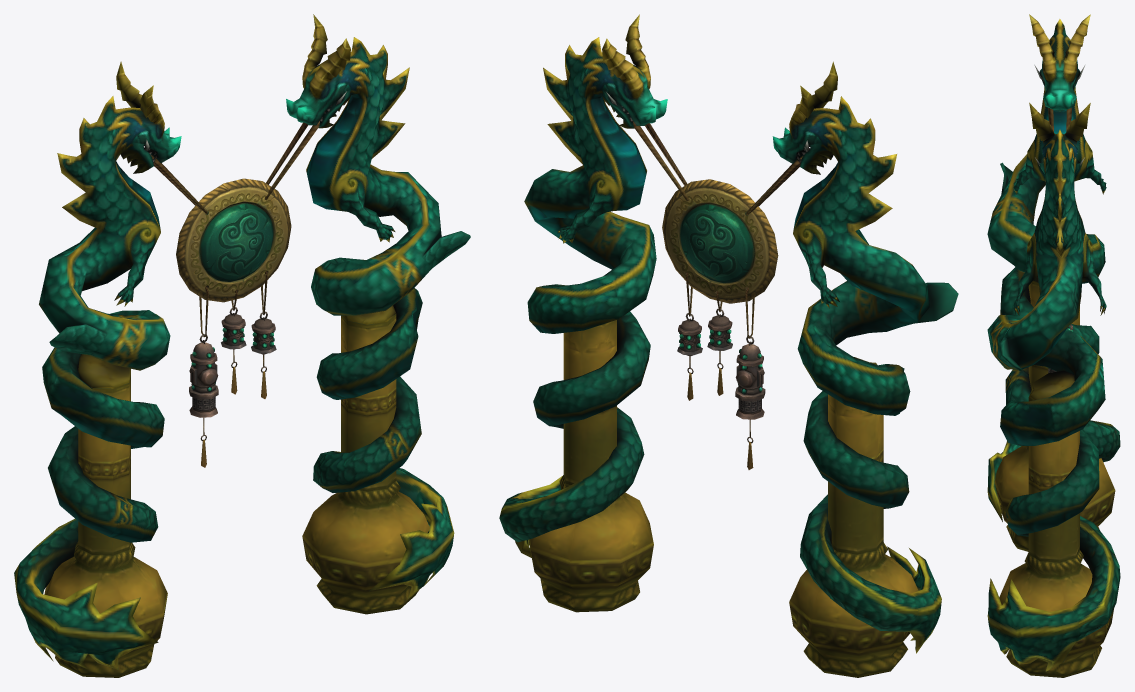
Rendered from Npc_001.FBX.
3 views of the same model, side by side, from view 1: azimuth 30°, elevation 25°; view 2: azimuth 150°, elevation 25°; view 3: azimuth 270°, elevation 25° (orthographic). The views are drawn at different scales.
Parts seen in each view (by area): view 1: M_a1; view 2: M_a1; view 3: M_a1.
Part boxes in pixels (x1,y1,x2,y2): M_a1: (14,14,470,677); M_a1: (499,14,958,677); M_a1: (987,14,1120,677).
Size of the model in its own units: 5.18 by 6.76 by 1.51.
Materials: 2 (2 with a texture image).
